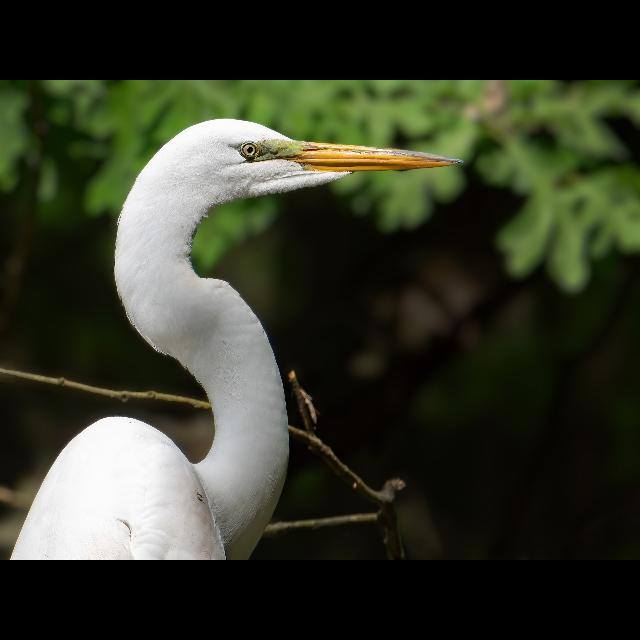egret: (21, 116, 463, 554)
